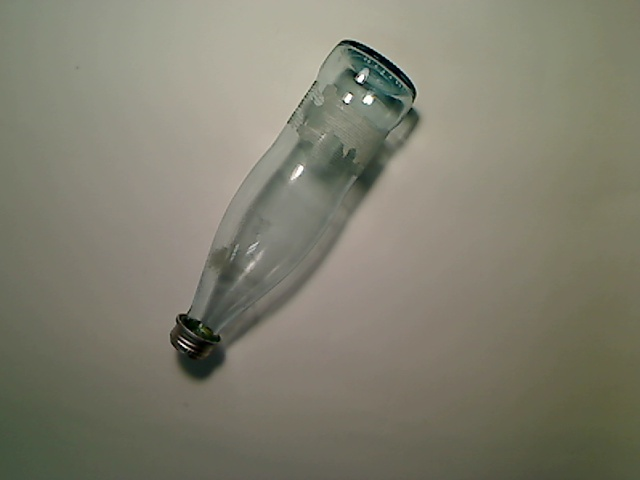bottle: (168, 39, 417, 361)
